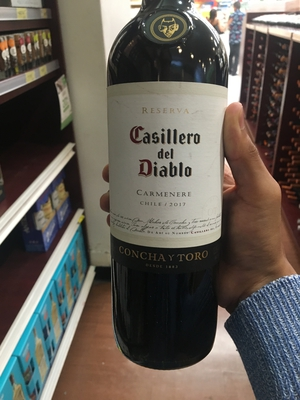casillero del diablo carmenere: (99, 9, 240, 363)
